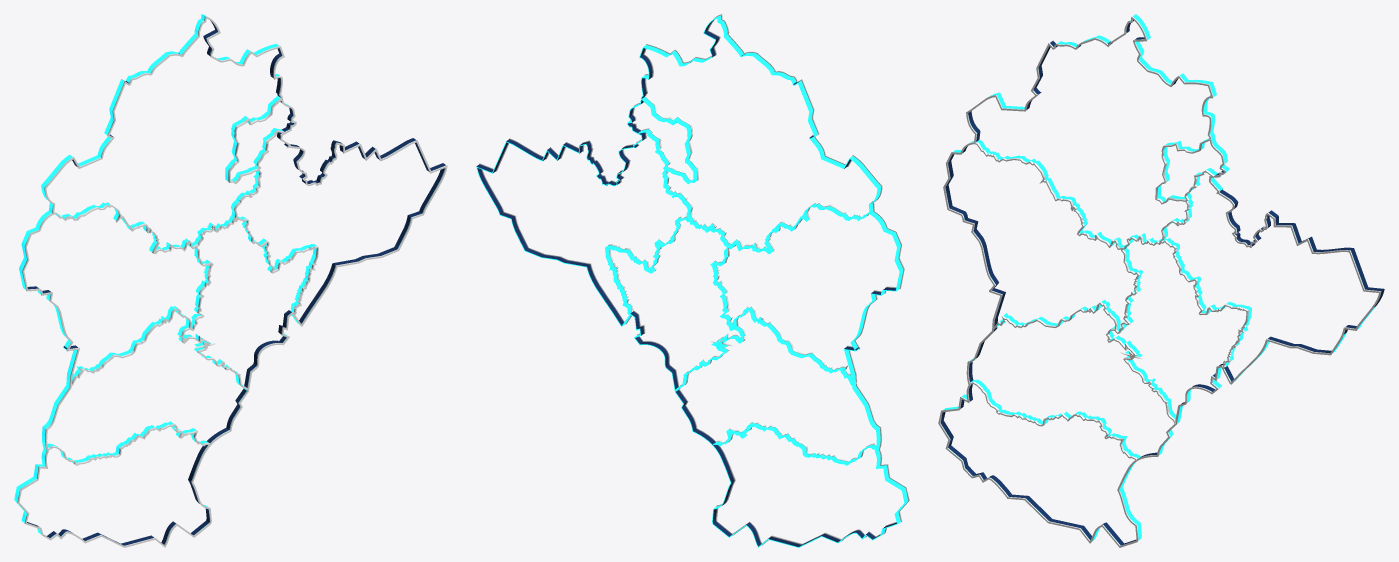
The model's file is 南网边线.fbx.
3 views of the same model, side by side, from view 1: azimuth 30°, elevation 25°; view 2: azimuth 150°, elevation 25°; view 3: azimuth 330°, elevation 25° (orthographic). The views are drawn at different scales.
Visible parts, largest first — view 1: 扫描, 扫描_2, 扫描_1, 扫描_1_2; view 2: 扫描, 扫描_1, 扫描_2, 扫描_1_2; view 3: 扫描, 扫描_2, 扫描_1, 扫描_1_2.
Boxes of the visible parts, x1,y1,x2,y2 form: 扫描: (14, 14, 445, 545); 扫描_2: (17, 16, 447, 547); 扫描_1: (47, 95, 316, 463); 扫描_1_2: (48, 98, 318, 465); 扫描: (476, 15, 908, 547); 扫描_1: (605, 97, 876, 465); 扫描_2: (479, 14, 909, 545); 扫描_1_2: (608, 96, 876, 462); 扫描: (940, 14, 1384, 545); 扫描_2: (938, 16, 1381, 547); 扫描_1: (971, 138, 1251, 458); 扫描_1_2: (968, 139, 1248, 460).
Size of the model in its own units: 1180 by 1368 by 21.6.
